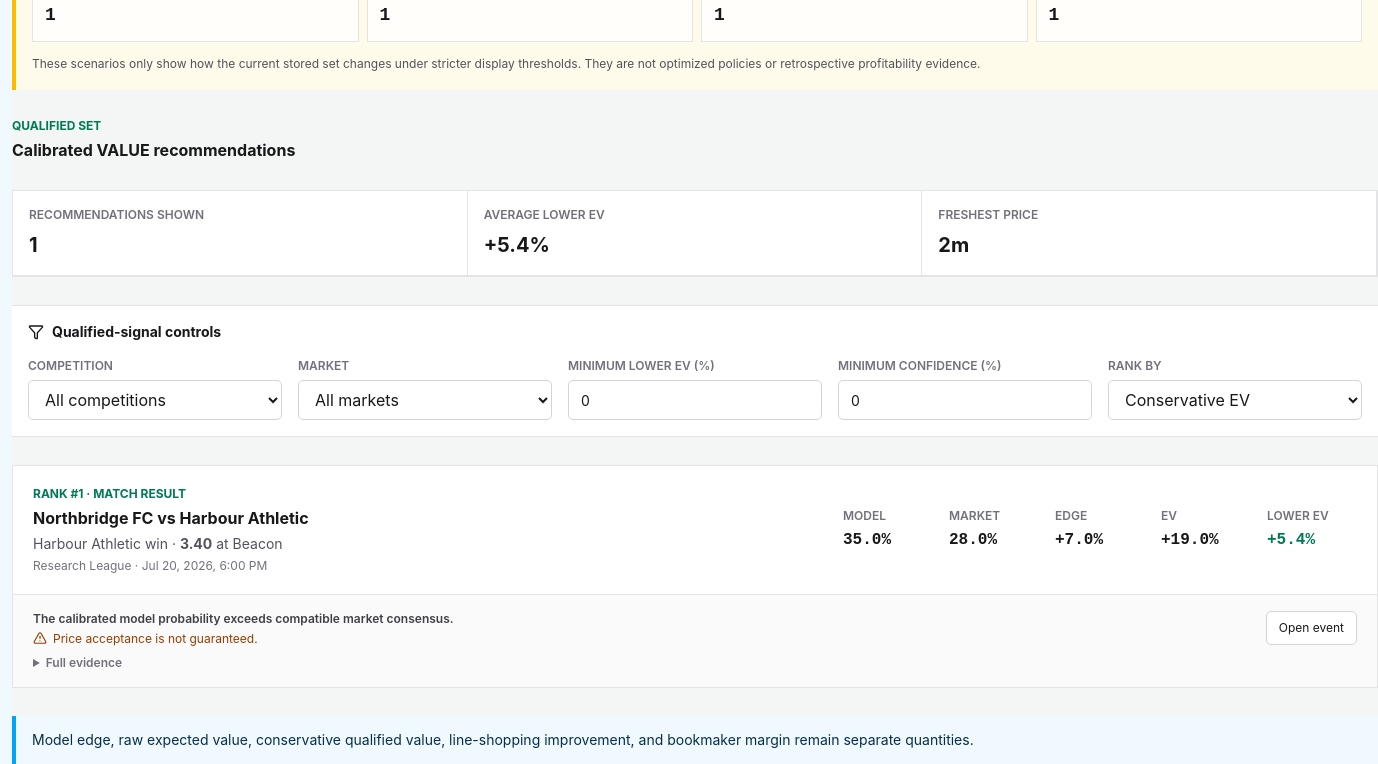
Scenario: ValueOpportunities › shows a distinct filtered empty state
(page scrolled)
Step 1. Replace the text in the number field labelled "Minimum lower EV (%)" with "10" → {"x": 695, "y": 400}, box [568,380,822,420]
(page scrolled)
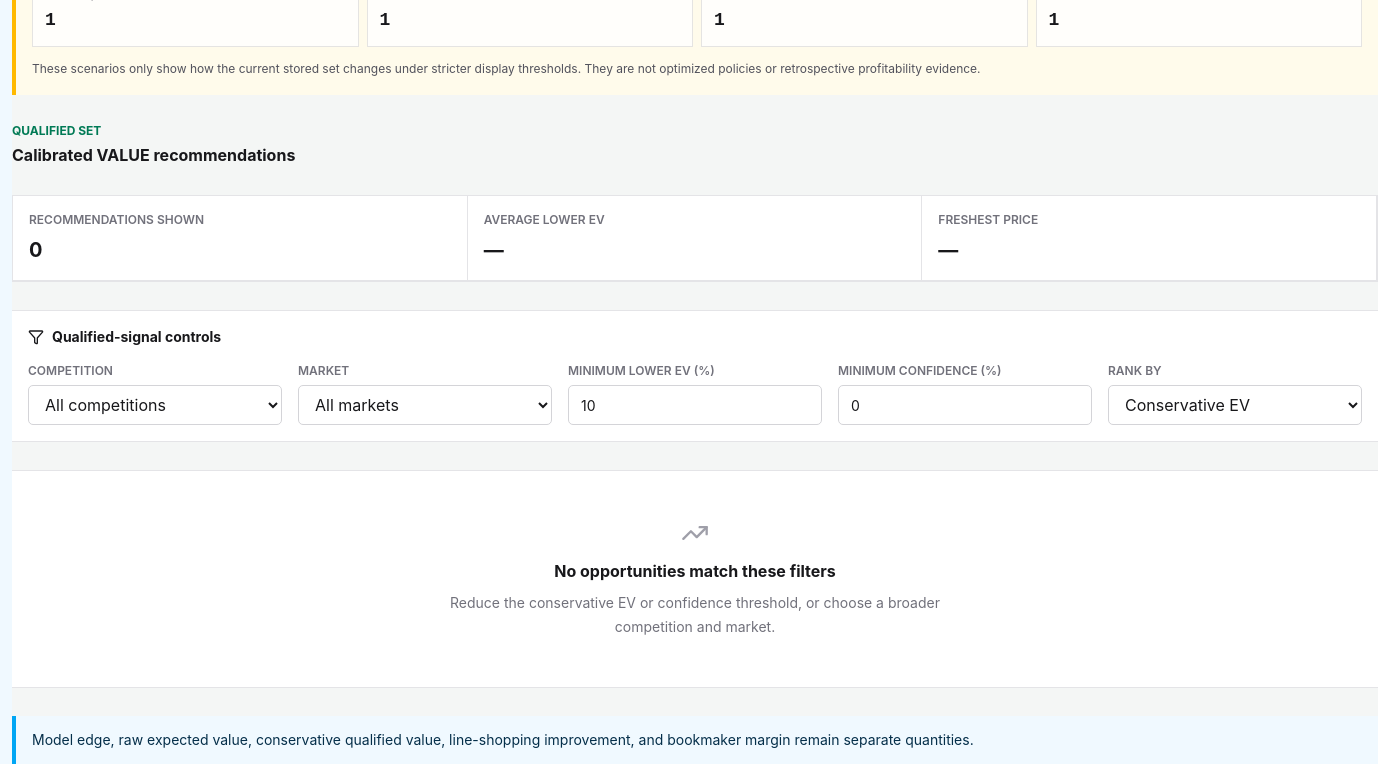
Result: the heading "No opportunities match these filters" is shown at [554,561,836,581]
